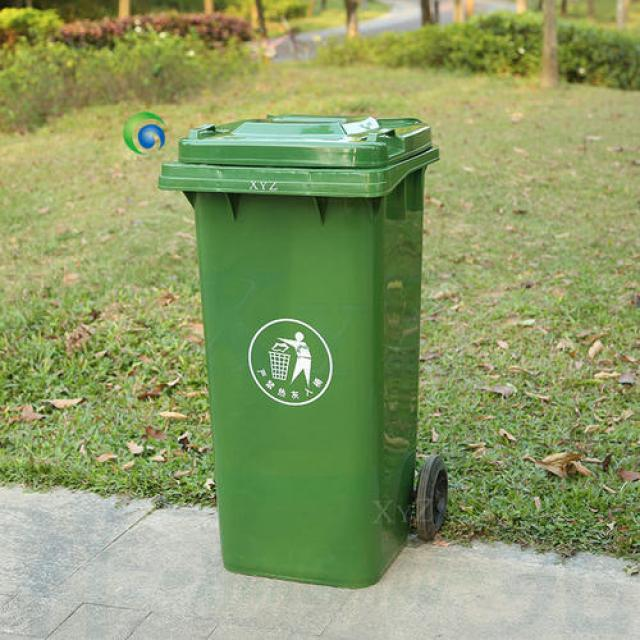garbage_bin: (156, 113, 439, 586)
